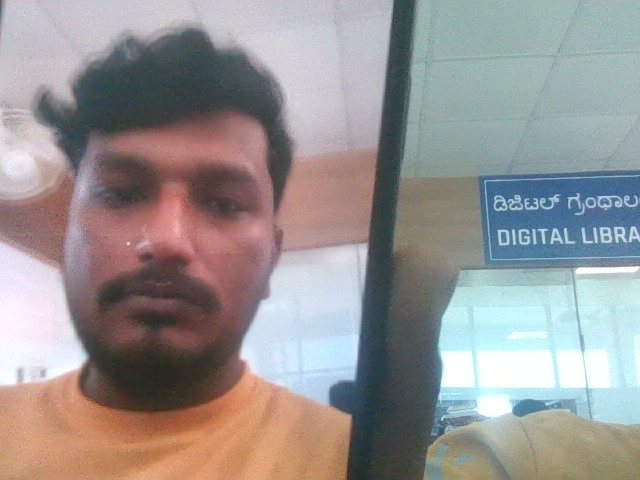fake: (37, 19, 307, 401)
